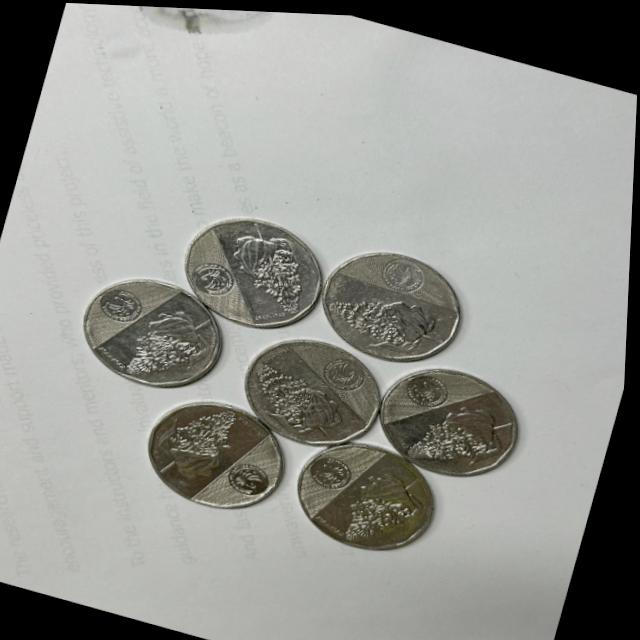10_New_Back: (318, 276, 452, 358), (247, 354, 361, 445), (213, 220, 318, 316), (337, 457, 440, 551), (404, 383, 507, 477), (160, 391, 254, 487), (130, 299, 224, 383)
